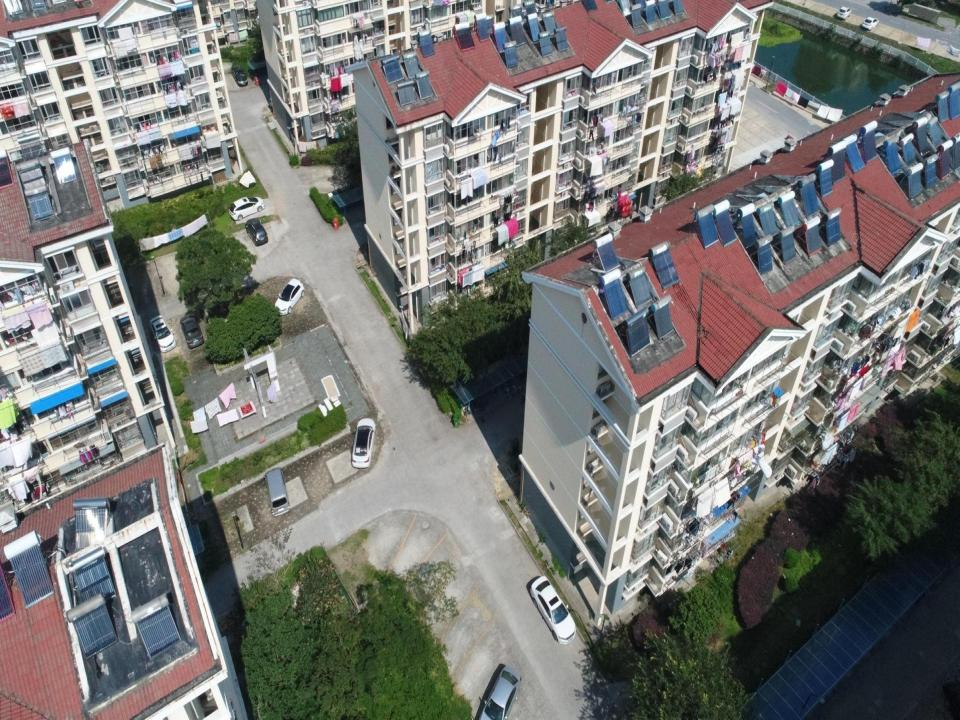car: (530, 576, 576, 644), (478, 666, 521, 719), (351, 418, 376, 470), (275, 278, 304, 316), (150, 315, 176, 353), (179, 315, 204, 348), (230, 196, 264, 220), (245, 219, 268, 247), (232, 66, 248, 86), (862, 16, 879, 32), (836, 5, 852, 20)
van: (264, 468, 290, 516)
